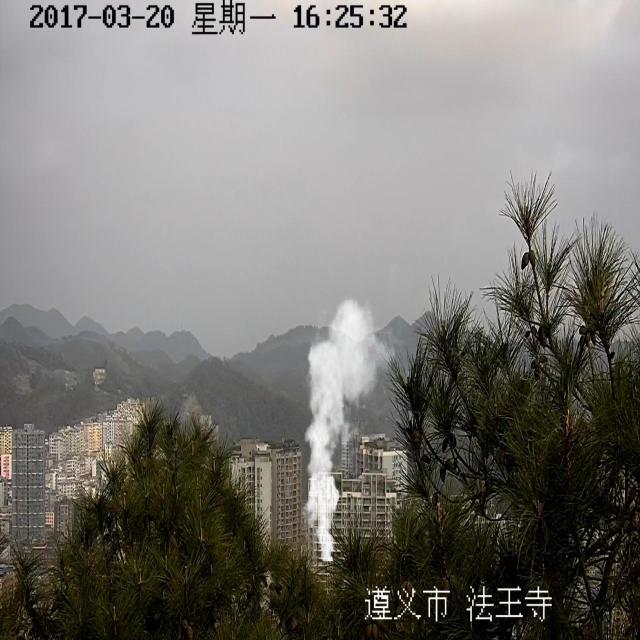Smoke: (304, 300, 396, 564)
